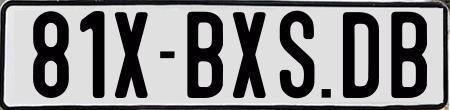1: (79, 11, 110, 104)
8: (30, 9, 69, 99)
B: (184, 12, 223, 98), (391, 12, 427, 103)
D: (343, 10, 383, 102)
S: (280, 10, 315, 98)
X: (230, 11, 264, 99), (113, 12, 146, 98)
